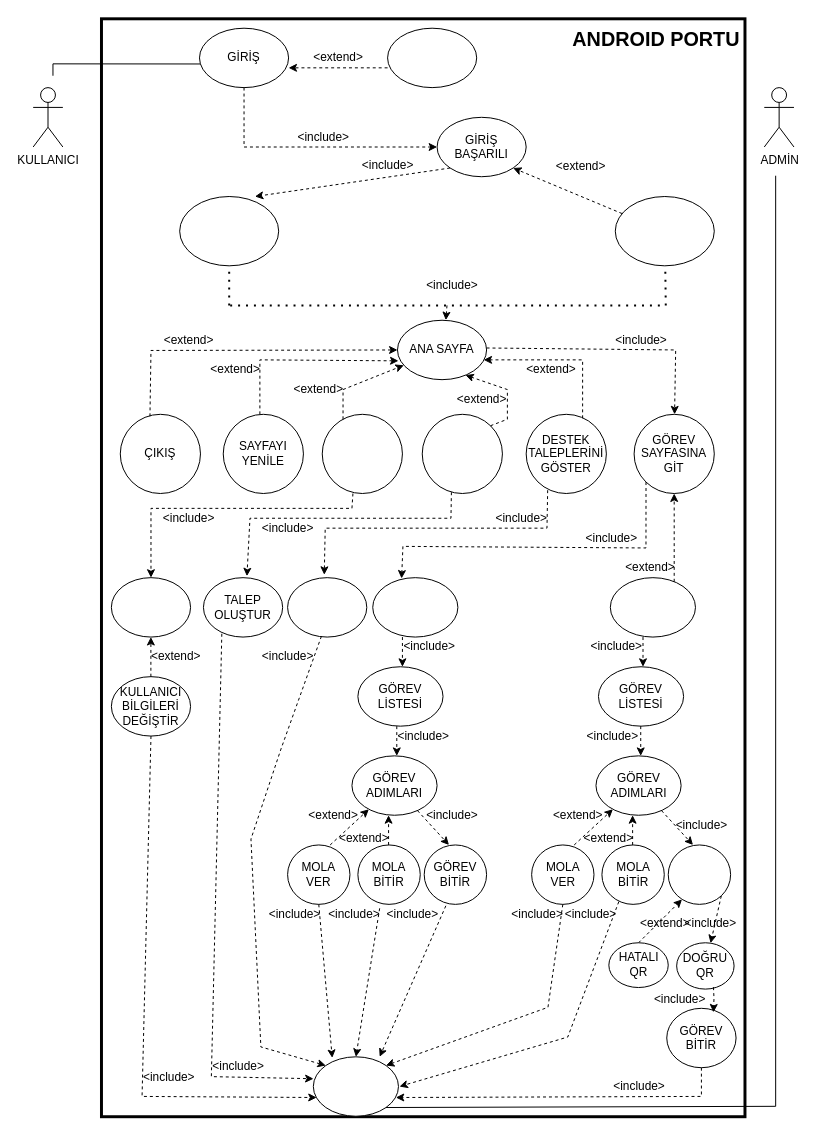
Some shapes in this 815 by 1135 pixel diagram are drawn without their labels. The shapes that lost their labels are listed below. From the top down, each one's centre as x and y in pixels, then its label:
At point (432, 57): "HATALI GİRİŞ".
At point (229, 231): "KULLANICI TİPİ TEKNİSYEN".
At point (664, 231): "KULLANICI TİPİ TEDARİKÇİ".
At point (361, 453): "KULLANICI BİLGİLERİNi GÖSTER".
At point (461, 453): "DESTEK TALEBİ OLUŞTUR".
At point (150, 607): "KULLANICI BİLGİLERİ".
At point (327, 607): "TALEPLER".
At point (415, 607): "OPERASYON İŞLERİ".
At point (652, 607): "PERİYODİK İŞLER".
At point (699, 874): "QR OKUT".
At point (355, 1086): "VERİTABANI".
